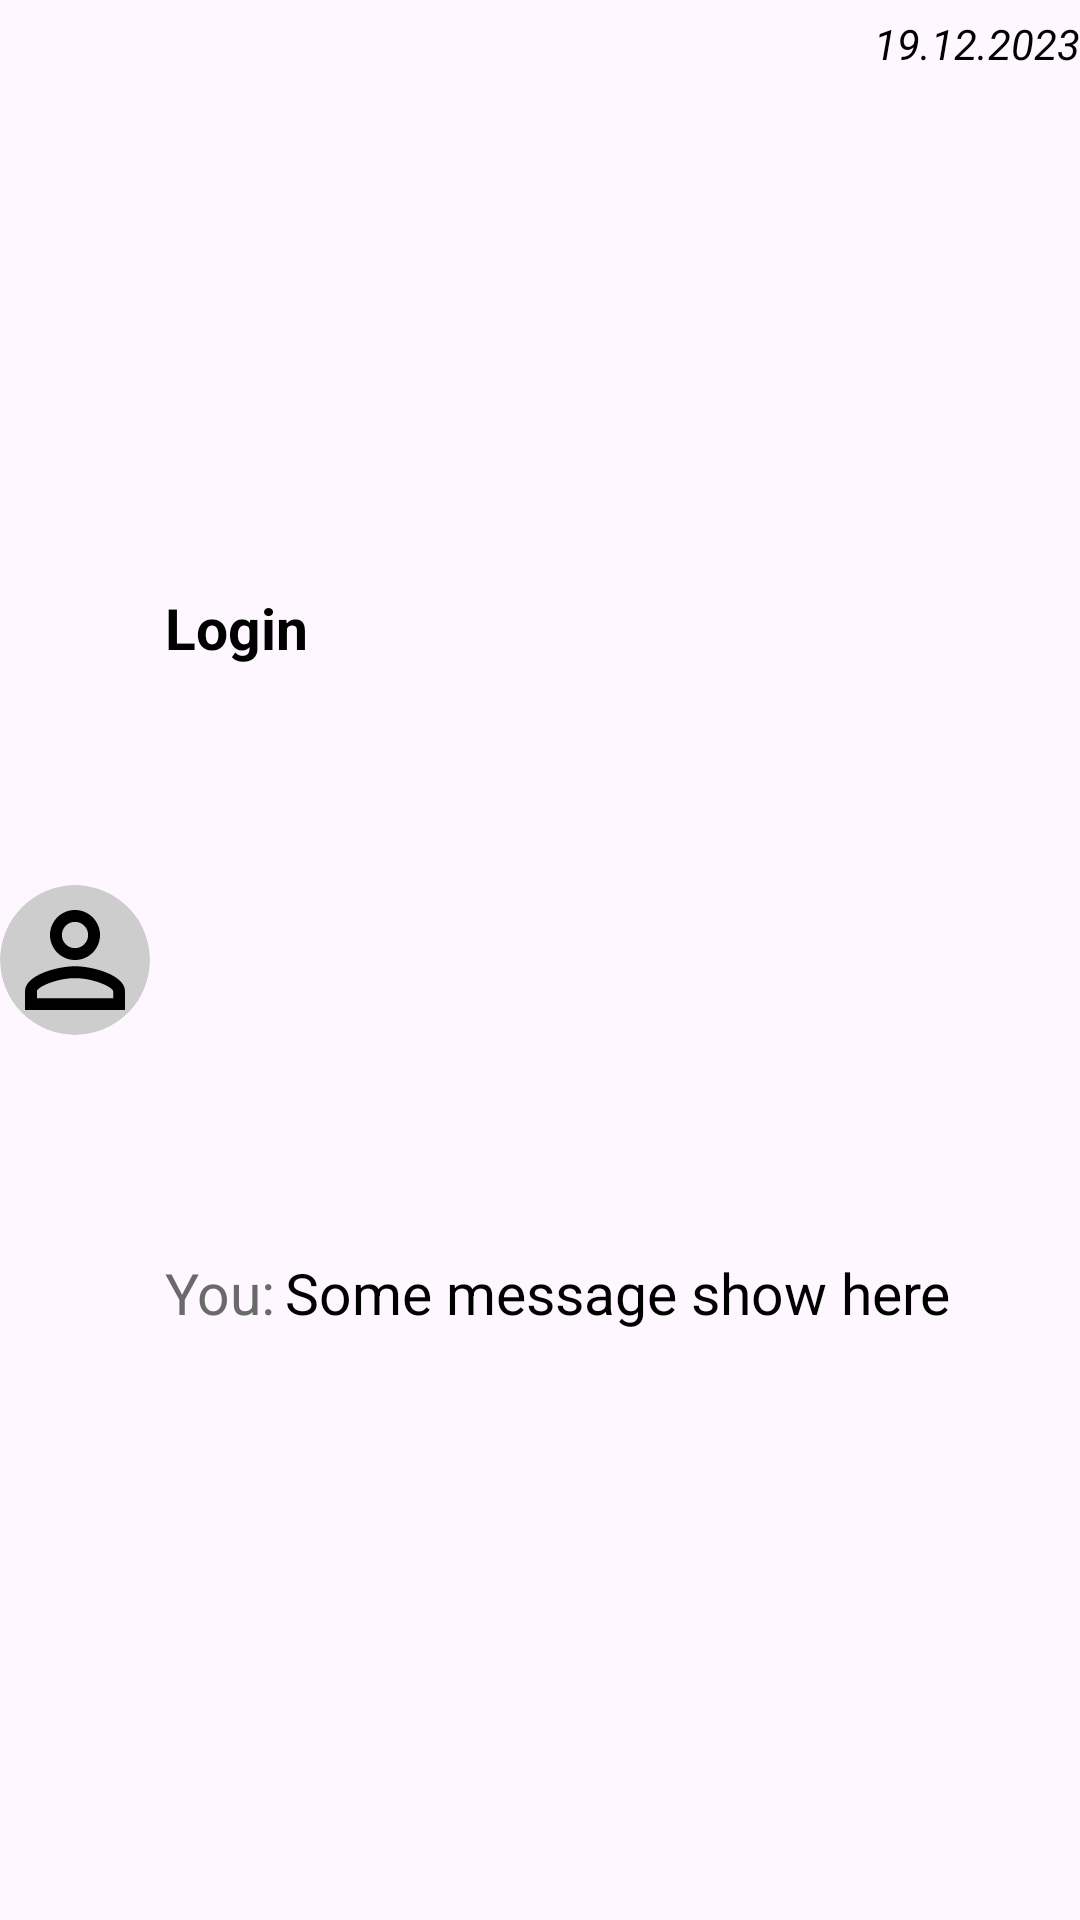

Icon bounding boxes for this 1080 × 1920 phone screenshot, format (x1, y1, x2, y2):
person: (0, 885, 150, 1035)
